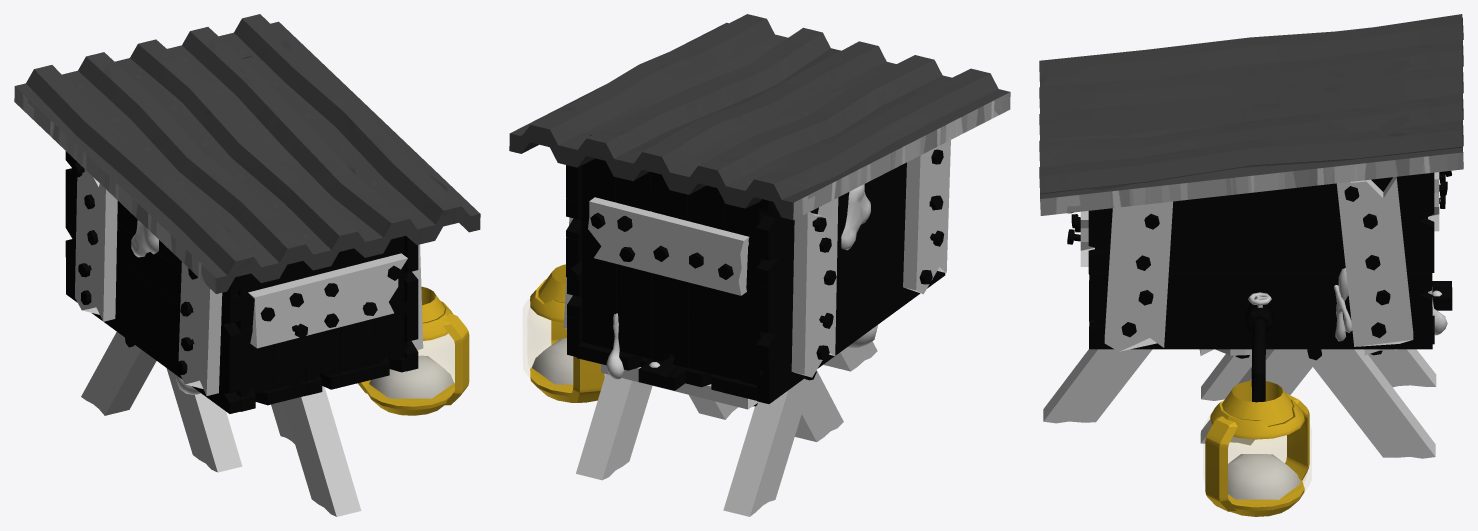
File: Apiary.fbx
The picture shows the model from 3 angles, left to right: view 1: azimuth 30°, elevation 25°; view 2: azimuth 150°, elevation 25°; view 3: azimuth 270°, elevation 25°; orthographic projection. The views are drawn at different scales.
Parts seen in each view (by area): view 1: workbench; view 2: workbench; view 3: workbench.
Part boxes in pixels (x1,y1,x2,y2): workbench: [14, 14, 480, 516]; workbench: [509, 14, 1010, 516]; workbench: [1039, 14, 1463, 516].
Size of the model in its own units: 3.64 by 3.33 by 3.71.
